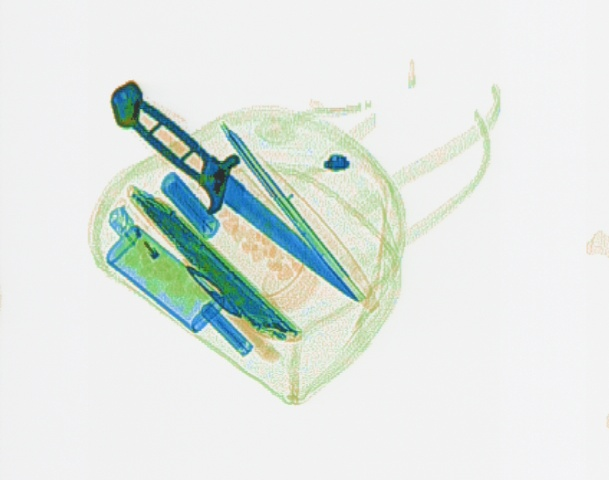knife: (109, 79, 357, 301)
lighter: (106, 205, 181, 281)
